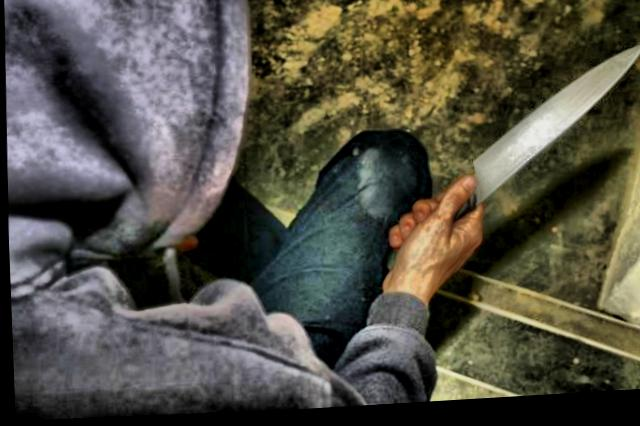knife: (400, 41, 640, 254)
